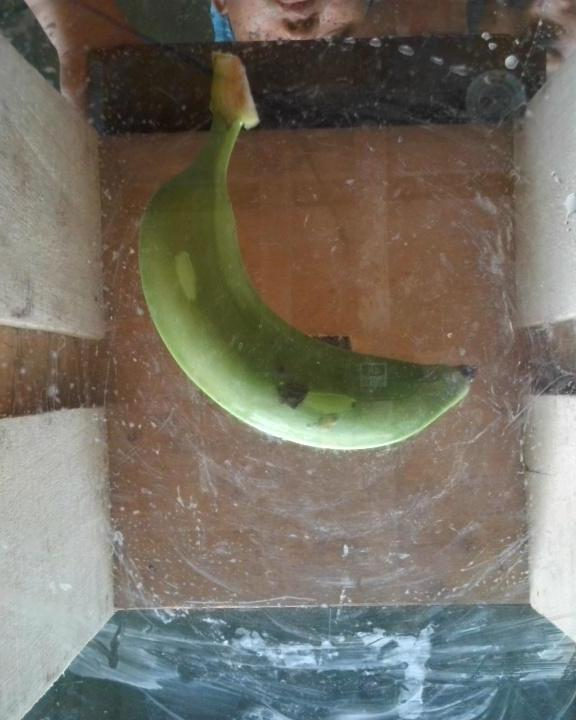CLASS B: (133, 53, 485, 459)
Class A: (274, 372, 319, 413)
